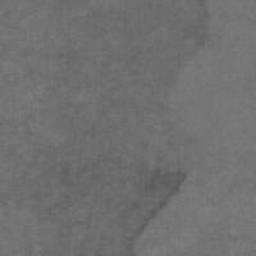Water spot: (0, 0, 221, 256)
